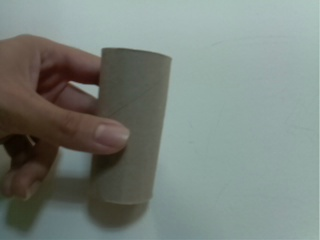rollo papel: (88, 47, 177, 206)
